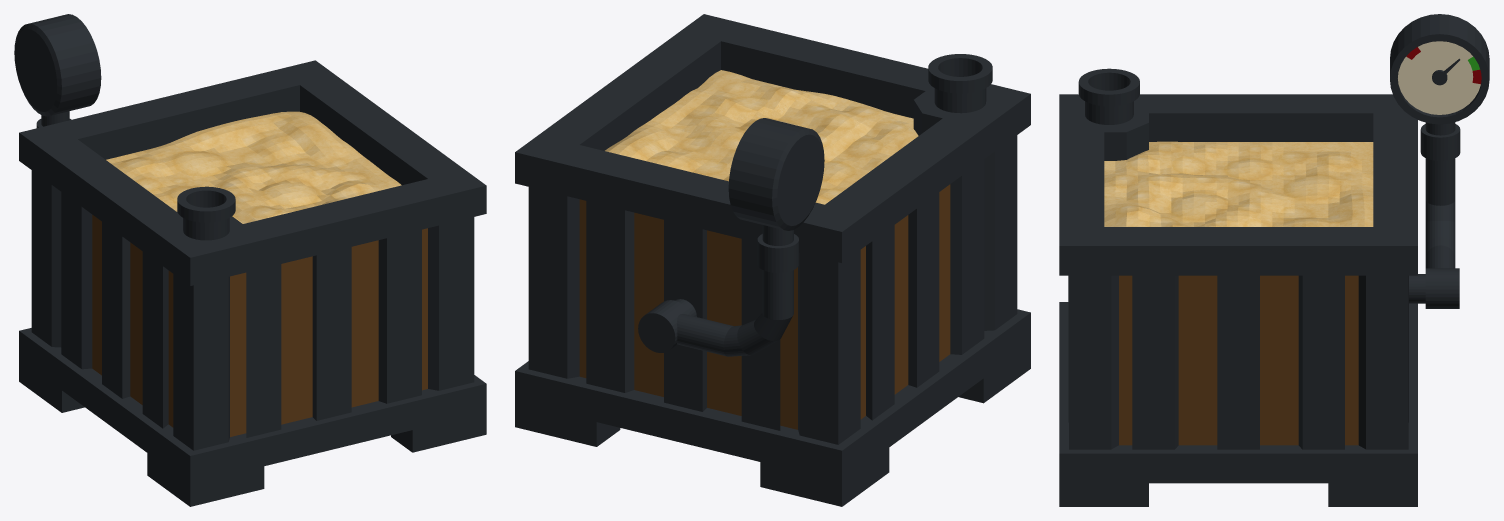
The model's file is FermentationMachine.fbx.
3 views of the same model, side by side, from view 1: azimuth 30°, elevation 25°; view 2: azimuth 150°, elevation 25°; view 3: azimuth 270°, elevation 25° (orthographic). The views are drawn at different scales.
Parts seen in each view (by area): view 1: Cube, Cube.002, Cube.001, Cube.003, Cylinder.001, Cylinder; view 2: Cube, Cube.002, Cube.003, Cube.001, Cylinder.001, Cylinder.002, Cylinder; view 3: Cube, Cube.002, Cube.001, Cube.003, Cylinder.001, Cylinder.002, Cylinder.
Part boxes in pixels (x1,y1,x2,y2): Cube: [19, 60, 486, 506]; Cube.002: [61, 192, 421, 437]; Cube.001: [106, 111, 401, 223]; Cube.003: [92, 215, 427, 436]; Cylinder.001: [14, 14, 101, 116]; Cylinder: [177, 186, 235, 240]; Cube: [515, 14, 1030, 506]; Cube.002: [586, 159, 994, 430]; Cube.003: [579, 184, 950, 429]; Cube.001: [605, 70, 918, 204]; Cylinder.001: [728, 118, 824, 230]; Cylinder.002: [638, 225, 798, 356]; Cylinder: [928, 54, 992, 113]; Cube: [1059, 94, 1417, 506]; Cube.002: [1068, 275, 1408, 449]; Cube.001: [1104, 141, 1373, 226]; Cube.003: [1119, 275, 1358, 445]; Cylinder.001: [1390, 14, 1489, 124]; Cylinder.002: [1409, 122, 1460, 308]; Cylinder: [1078, 68, 1139, 124].
Size of the model in its own units: 200 by 219 by 240.
Materials: 6 (1 with a texture image).
